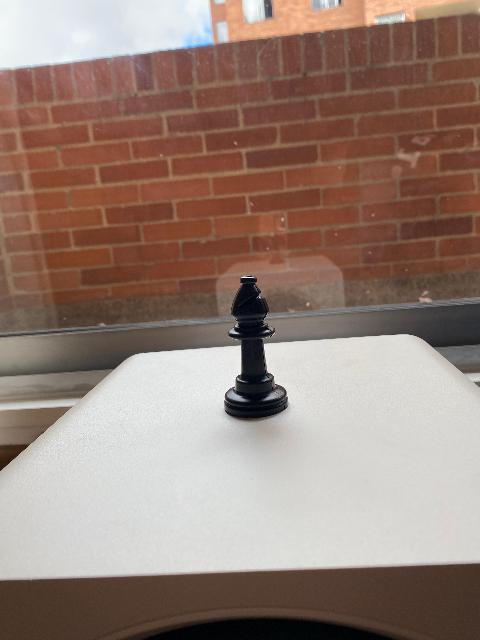black-bishop: (223, 274, 289, 420)
